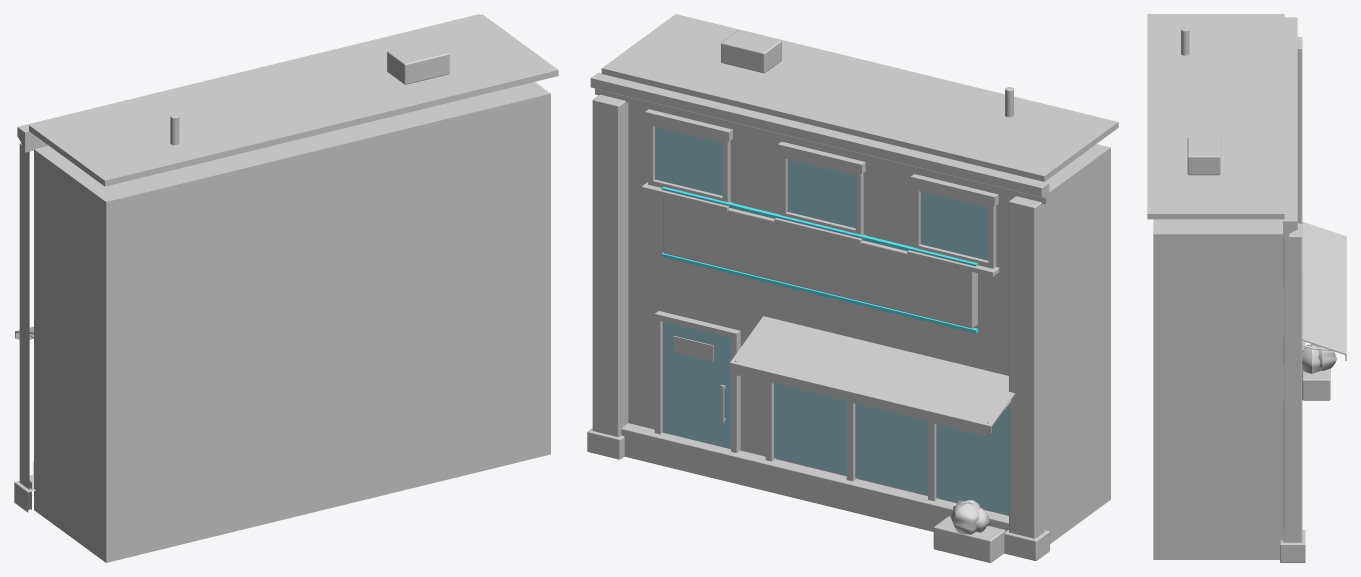
The model's file is ShopFront.glb.
The picture shows the model from 3 angles, left to right: view 1: azimuth 30°, elevation 25°; view 2: azimuth 150°, elevation 25°; view 3: azimuth 270°, elevation 25°; orthographic projection. The views are drawn at different scales.
Visible parts, largest first — view 1: Body; view 2: Body, Glass, Glow; view 3: Body.
Boxes of the visible parts, x1=… form: Body: x1=14, y1=14, x2=558, y2=562; Body: x1=587, y1=14, x2=1118, y2=562; Glass: x1=655, y1=127, x2=1008, y2=514; Glow: x1=661, y1=186, x2=978, y2=333; Body: x1=1147, y1=14, x2=1346, y2=562.
Size of the model in its own units: 20.4 by 17.45 by 8.42.
